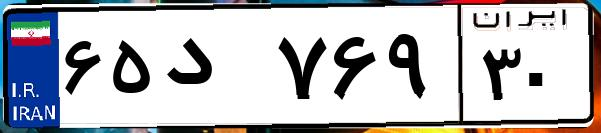0: (525, 38, 570, 115)
3: (475, 38, 525, 113)
5: (110, 28, 158, 98)
6: (330, 28, 385, 110), (57, 26, 110, 100)
7: (270, 28, 330, 110)
9: (385, 28, 445, 110)
د: (158, 20, 270, 120)
